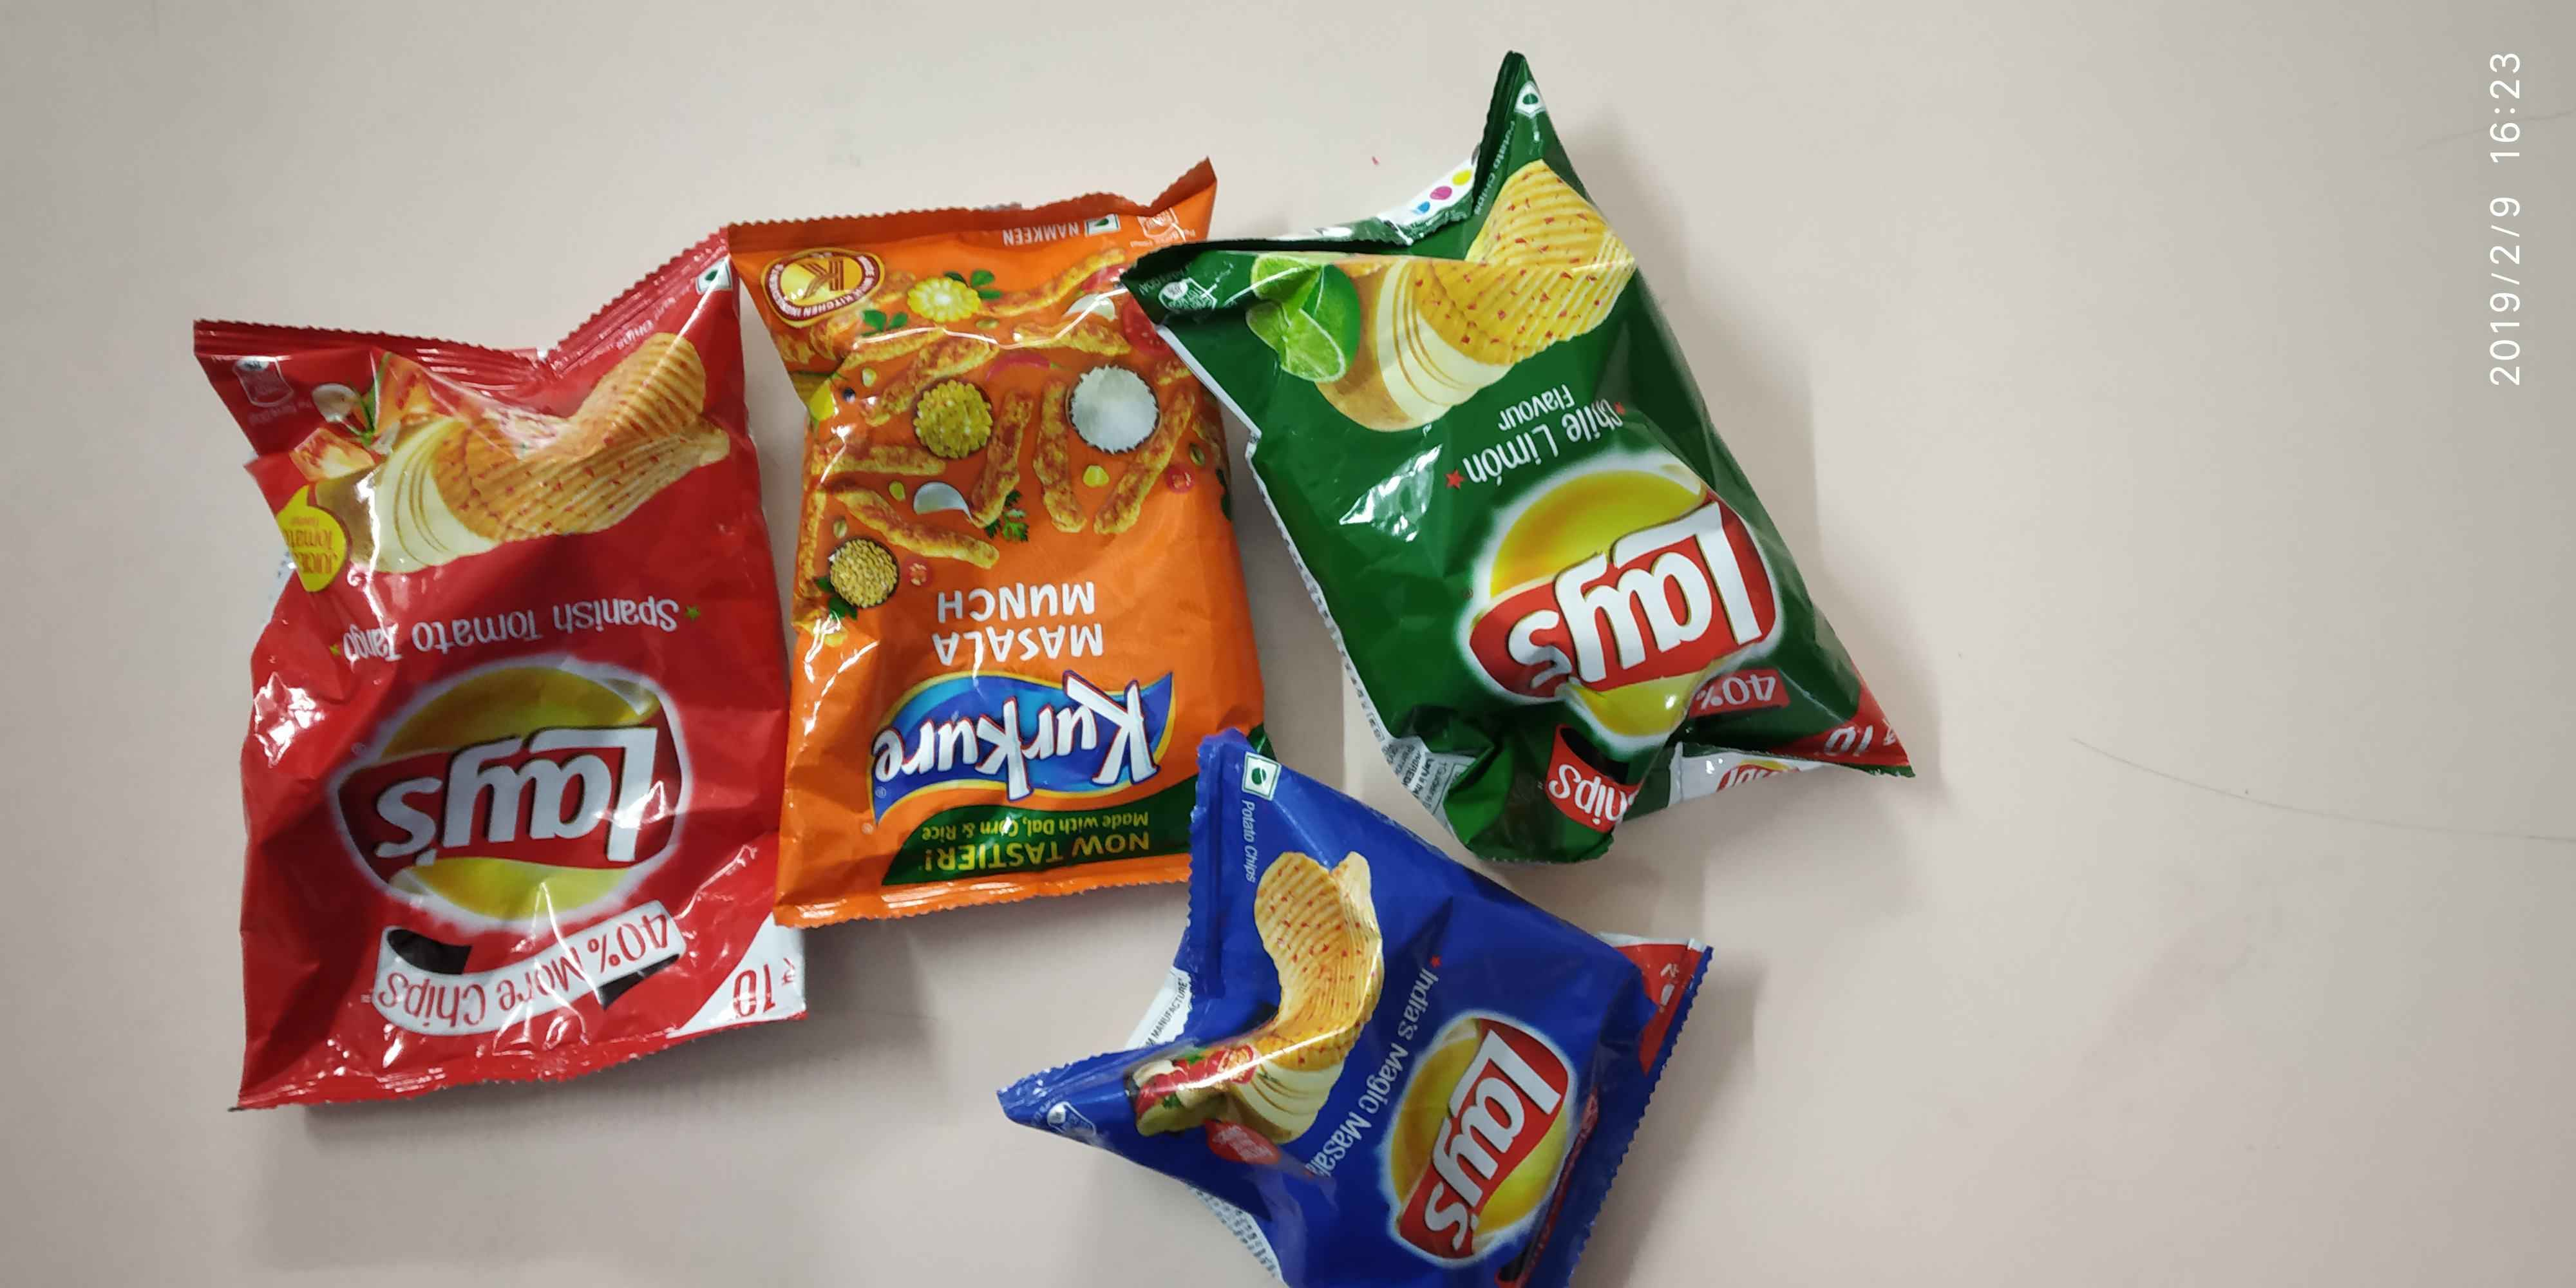Lays: (334, 647, 701, 917), (1472, 447, 1789, 759), (1360, 1007, 1589, 1257)
kurkure: (862, 672, 1194, 792)
